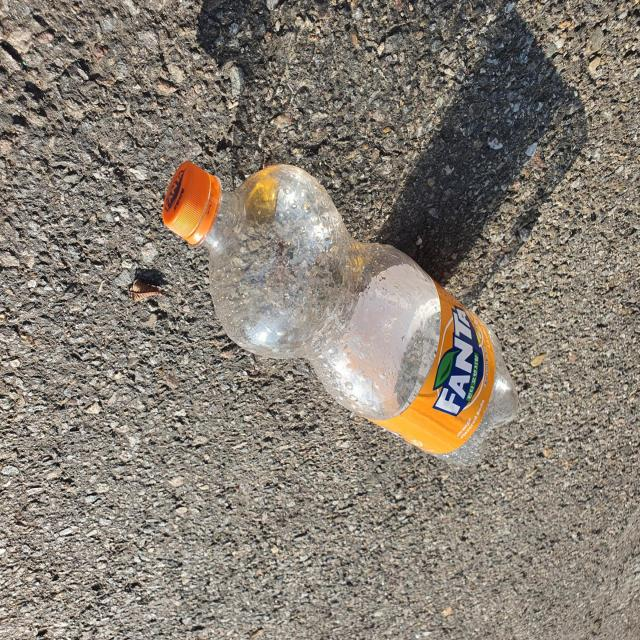plastic: (162, 161, 519, 466)
